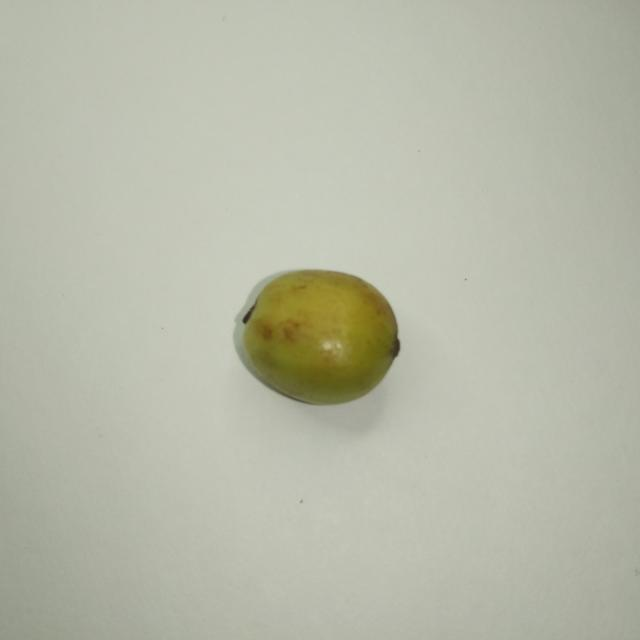Sano: (244, 271, 396, 403)
